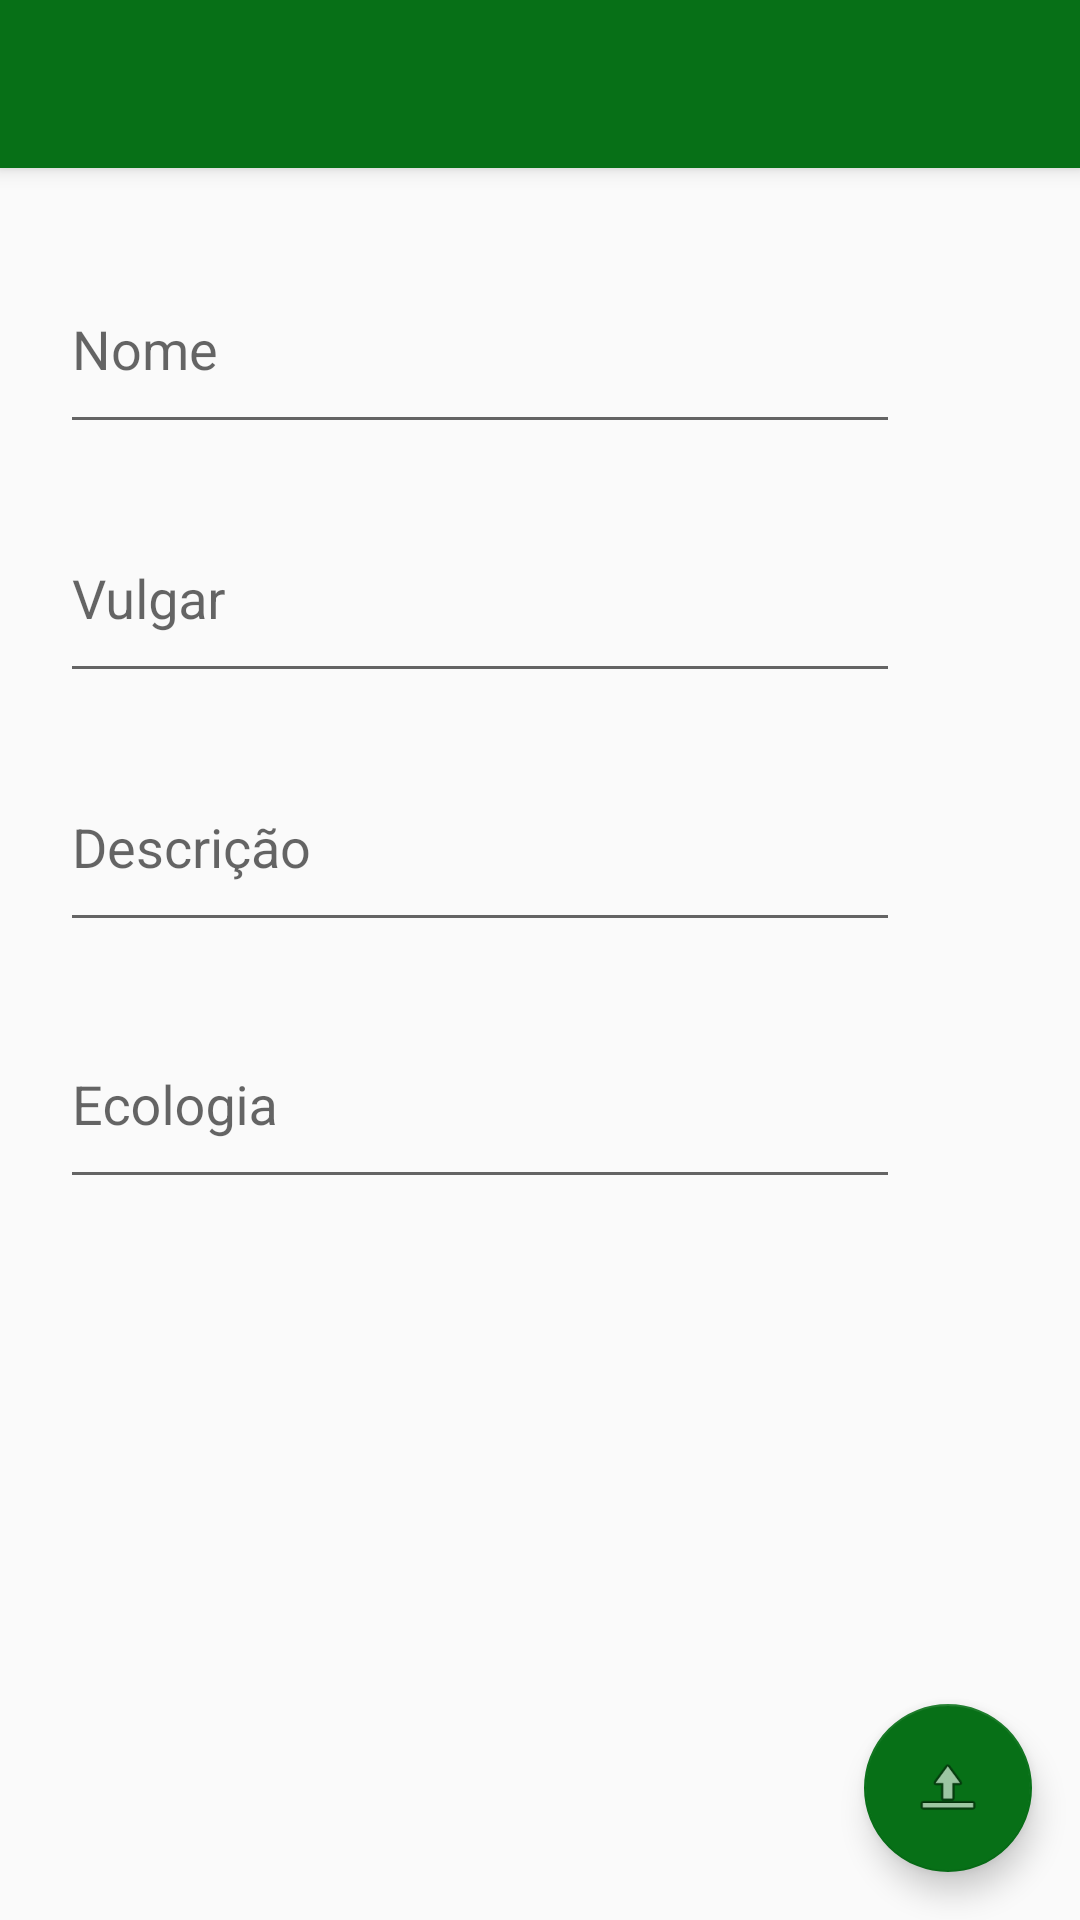

Icon click points for this 1080px x 1920px phone screenshot, format [x,y]:
upload: [948,1788]
